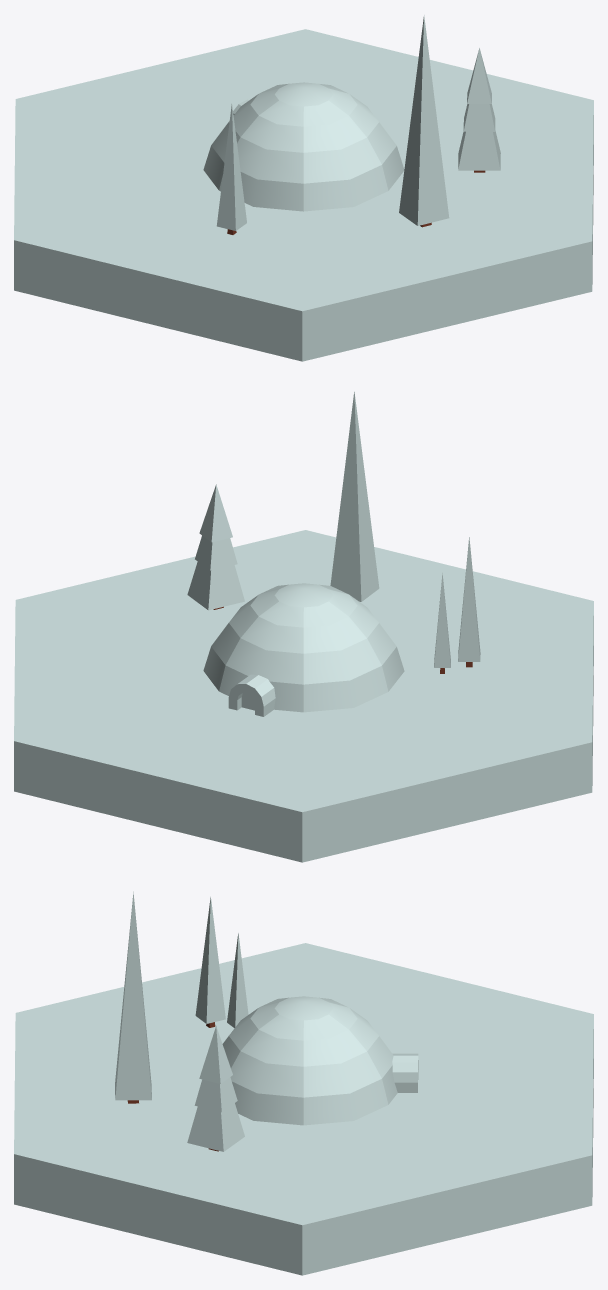
File: Planet_Iglo_Hexagon (1).fbx
3 renders of one model, top to bottom at view 1: azimuth 30°, elevation 25°; view 2: azimuth 150°, elevation 25°; view 3: azimuth 270°, elevation 25°, orthographic.
Visible parts, largest first — view 1: polySurface6, pCube18, pCube20, pCube14, pCube16, pCube15; view 2: polySurface6, pCube18, pCube14, pCube20, pCylinder1, pCube15, pCube16, pCube22; view 3: polySurface6, pCube18, pCube20, pCube14, pCube22, pCube15, pCube16, pCylinder1.
Boxes of the visible parts, box(x1,y1,x2,y2) form: polySurface6: box(14, 29, 593, 361); pCube18: box(399, 15, 449, 225); pCube20: box(216, 104, 246, 230); pCube14: box(458, 131, 500, 170); pCube16: box(467, 48, 491, 103); pCube15: box(463, 104, 495, 131); polySurface6: box(14, 530, 593, 862); pCube18: box(330, 391, 379, 601); pCube14: box(187, 562, 244, 610); pCube20: box(458, 537, 480, 661); pCylinder1: box(228, 674, 275, 716); pCube15: box(195, 535, 237, 570); pCube16: box(199, 484, 232, 542); pCube22: box(434, 573, 450, 667); polySurface6: box(14, 943, 593, 1275); pCube18: box(115, 891, 151, 1100); pCube20: box(195, 896, 225, 1023); pCube14: box(187, 1103, 244, 1151); pCube22: box(227, 933, 248, 1027); pCube15: box(194, 1077, 237, 1112); pCube16: box(199, 1026, 232, 1083); pCylinder1: box(392, 1053, 418, 1092).
Bounding box in the file's own units: 6.28 × 2.7 × 5.45.
